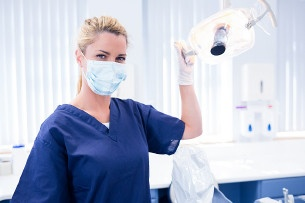Mask: (83, 46, 130, 93)
